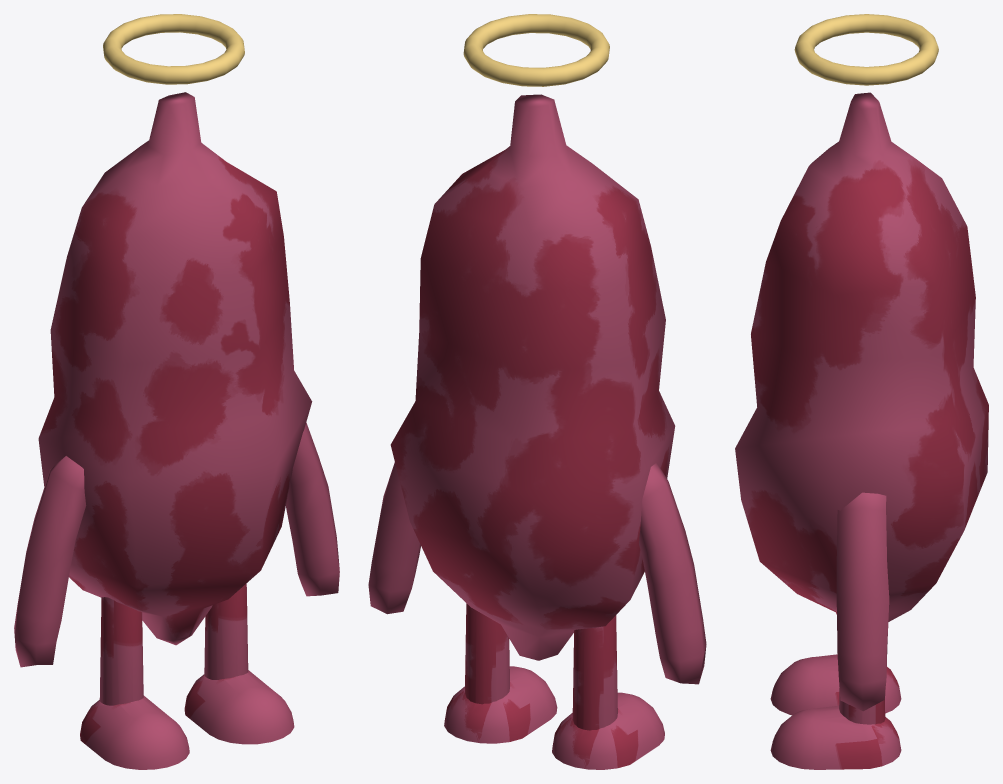
The model's file is Camote.fbx.
3 renders of one model, left to right at view 1: azimuth 30°, elevation 25°; view 2: azimuth 150°, elevation 25°; view 3: azimuth 270°, elevation 25°, orthographic. The views are drawn at different scales.
Visible parts, largest first — view 1: Sphere003, Sphere005, Sphere006, pSphere11, pSphere12, pTorus3; view 2: Sphere003, Sphere005, pSphere11, Sphere006, pTorus3, pSphere12; view 3: Sphere003, pSphere12, Sphere006, pTorus3, Sphere005.
Part boxes in pixels (box(x1,y1,x2,y2)): Sphere003: box(38, 92, 312, 645); Sphere005: box(80, 597, 189, 769); Sphere006: box(184, 583, 294, 744); pSphere11: box(14, 456, 86, 667); pSphere12: box(286, 422, 339, 596); pTorus3: box(103, 14, 244, 84); Sphere003: box(390, 94, 675, 660); Sphere005: box(552, 615, 664, 769); pSphere11: box(639, 463, 706, 684); Sphere006: box(444, 603, 557, 743); pTorus3: box(463, 14, 609, 86); pSphere12: box(368, 462, 420, 614); Sphere003: box(735, 92, 988, 621); pSphere12: box(836, 492, 889, 711); Sphere006: box(770, 688, 901, 769); pTorus3: box(794, 14, 938, 85); Sphere005: box(770, 654, 901, 715).
Size of the model in its own units: 11.37 by 22.81 by 7.67.
